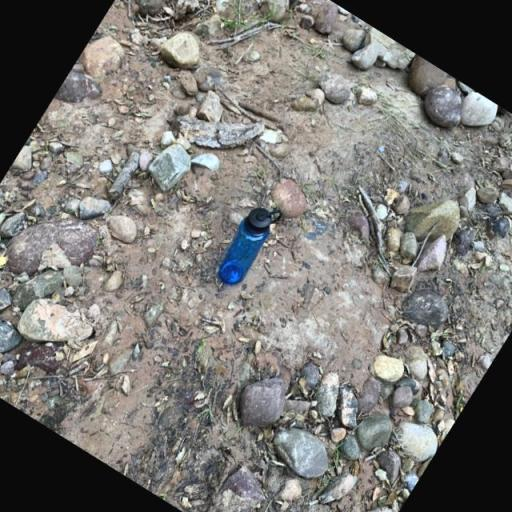bottle: (209, 196, 285, 290)
